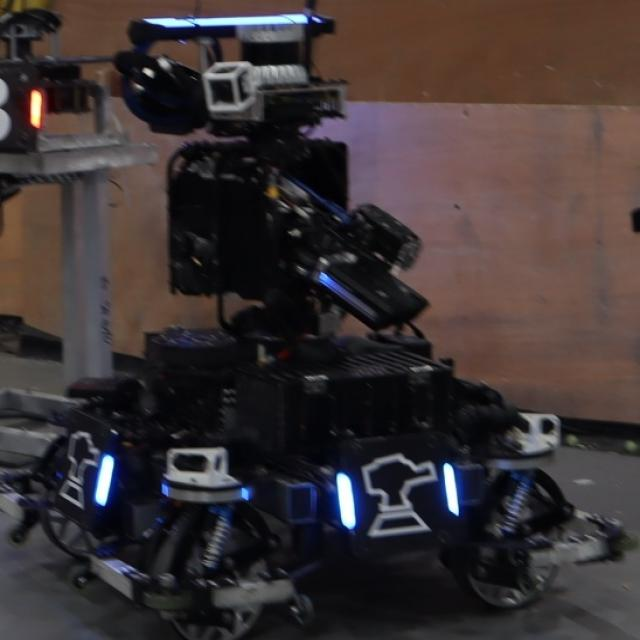Bs: (332, 444, 464, 541), (48, 419, 117, 518)
